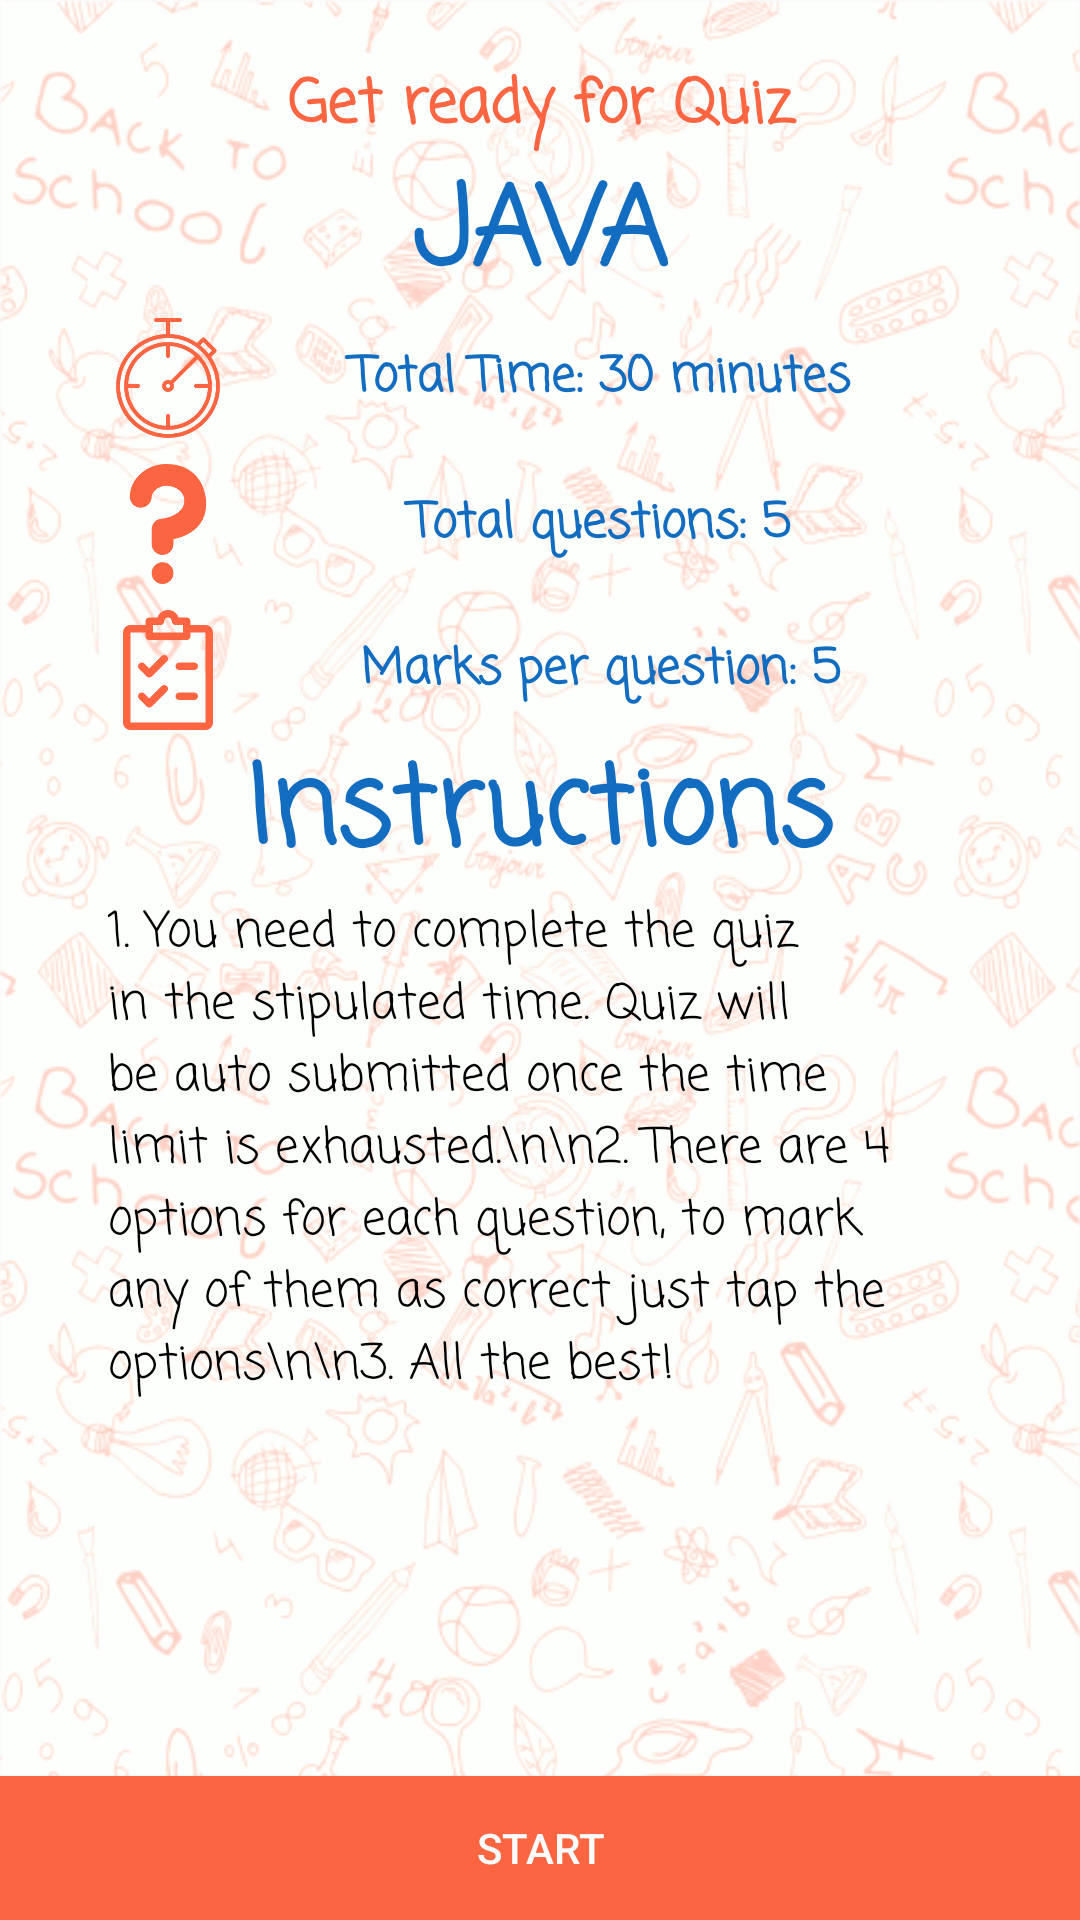

Screen size 1080w x 1920h. Icon name, then its center in pixels as point (x, y):
marking: point (175, 670)
noofques: point (178, 524)
timer: point (168, 378)
